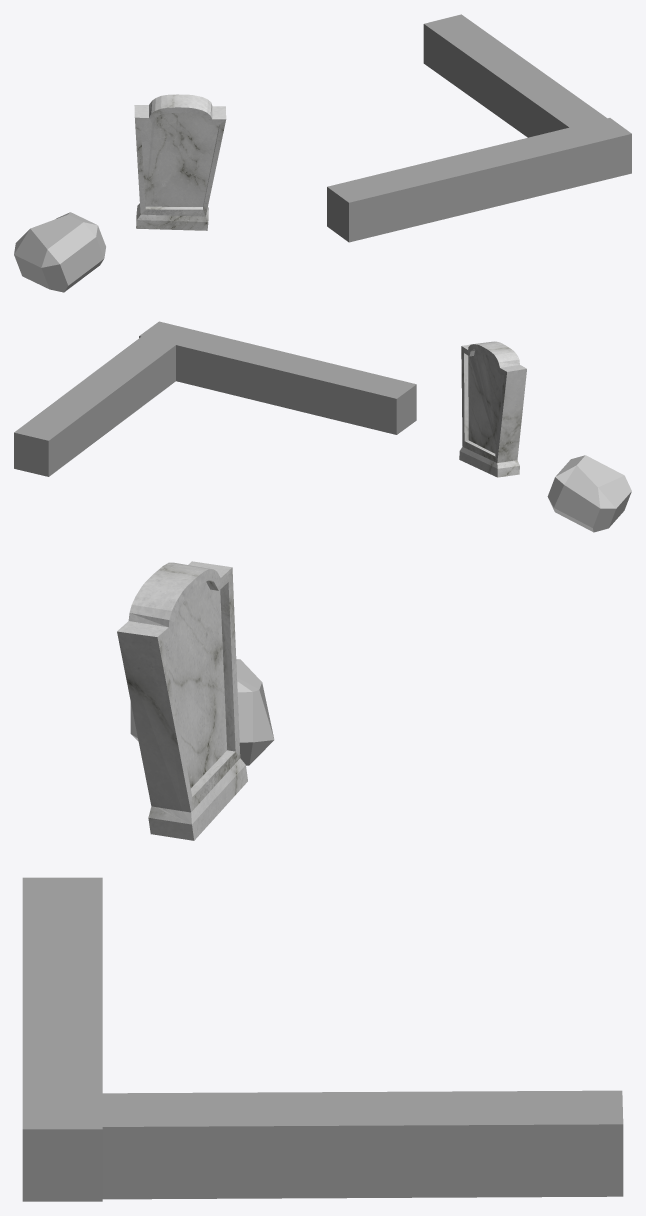
The model's file is GerberUVMappingGraveyard.fbx.
3 renders of one model, top to bottom at view 1: azimuth 30°, elevation 25°; view 2: azimuth 150°, elevation 25°; view 3: azimuth 270°, elevation 25°, orthographic. The views are drawn at different scales.
Visible parts, largest first — view 1: pCube16, FrontGravestone, pCube17, pCube35; view 2: pCube16, pCube17, FrontGravestone, pCube35; view 3: pCube17, FrontGravestone, pCube16, pCube35.
Boxes of the visible parts, x1,y1,x2,y2 form: pCube16: (327,118,631,242); FrontGravestone: (134,94,226,230); pCube17: (423,14,606,137); pCube35: (14,212,105,292); pCube16: (139,321,416,434); pCube17: (14,336,175,476); FrontGravestone: (459,341,526,477); pCube35: (547,455,631,532); pCube17: (101,1090,623,1199); FrontGravestone: (117,561,247,840); pCube16: (22,877,102,1201); pCube35: (130,659,274,765).
Bounding box in the file's own units: 5.74 × 1.58 × 2.93.
3 materials, 1 textured.
